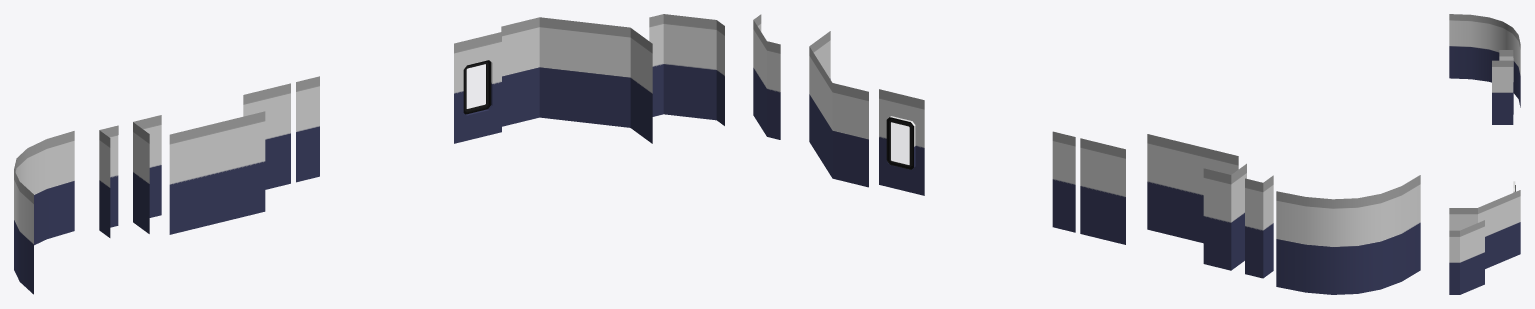
File: ModularAssetsBackface.fbx
The picture shows the model from 3 angles, left to right: view 1: azimuth 30°, elevation 25°; view 2: azimuth 150°, elevation 25°; view 3: azimuth 270°, elevation 25°; orthographic projection. The views are drawn at different scales.
Visible parts, largest first — view 1: Diagonal_Wall_003, Wall002, Diagnoal_Wall_003, Curve_Wall_002, Window_Wall001, Small_Wall001, Corner003, Quarter_Wall001, Corner004, Window; view 2: Curve_Wall_002, Diagonal_Wall_003, Wall002, Small_Wall001, Corner003, Window_Wall001, Corner004, Diagnoal_Wall_003, Quarter_Wall001, Window; view 3: Curve_Wall_002, Diagonal_Wall_003, Diagnoal_Wall_003, Corner003, Corner004.
Part boxes in pixels (x1=…): Diagonal_Wall_003: x1=501, y1=17, x2=652, y2=143; Wall002: x1=169, y1=111, x2=265, y2=234; Diagnoal_Wall_003: x1=649, y1=14, x2=724, y2=125; Curve_Wall_002: x1=14, y1=131, x2=74, y2=294; Window_Wall001: x1=454, y1=32, x2=501, y2=143; Small_Wall001: x1=243, y1=83, x2=290, y2=189; Corner003: x1=133, y1=115, x2=161, y2=233; Quarter_Wall001: x1=296, y1=76, x2=319, y2=182; Corner004: x1=99, y1=125, x2=118, y2=237; Window: x1=463, y1=60, x2=490, y2=114; Curve_Wall_002: x1=1276, y1=175, x2=1420, y2=294; Diagonal_Wall_003: x1=809, y1=31, x2=868, y2=187; Wall002: x1=1147, y1=134, x2=1238, y2=243; Small_Wall001: x1=1080, y1=138, x2=1125, y2=244; Corner003: x1=1203, y1=163, x2=1246, y2=270; Window_Wall001: x1=879, y1=89, x2=924, y2=195; Corner004: x1=1245, y1=175, x2=1273, y2=278; Diagnoal_Wall_003: x1=753, y1=14, x2=780, y2=139; Quarter_Wall001: x1=1052, y1=131, x2=1075, y2=232; Window: x1=886, y1=117, x2=913, y2=169; Curve_Wall_002: x1=1449, y1=14, x2=1520, y2=107; Diagonal_Wall_003: x1=1449, y1=190, x2=1520, y2=268; Diagnoal_Wall_003: x1=1449, y1=220, x2=1484, y2=294; Corner003: x1=1492, y1=60, x2=1513, y2=124; Corner004: x1=1499, y1=50, x2=1513, y2=114.
Size of the model in its own units: 567 by 78.74 by 78.84.
Materials: 4 (1 with a texture image).
